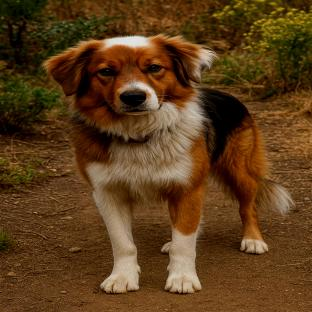Animal: (45, 35, 293, 293)
